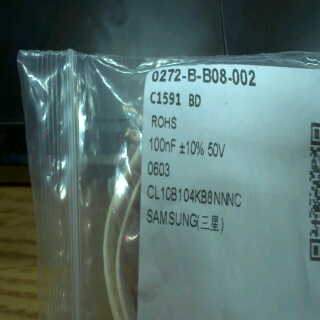100nF: (147, 135, 177, 154)
